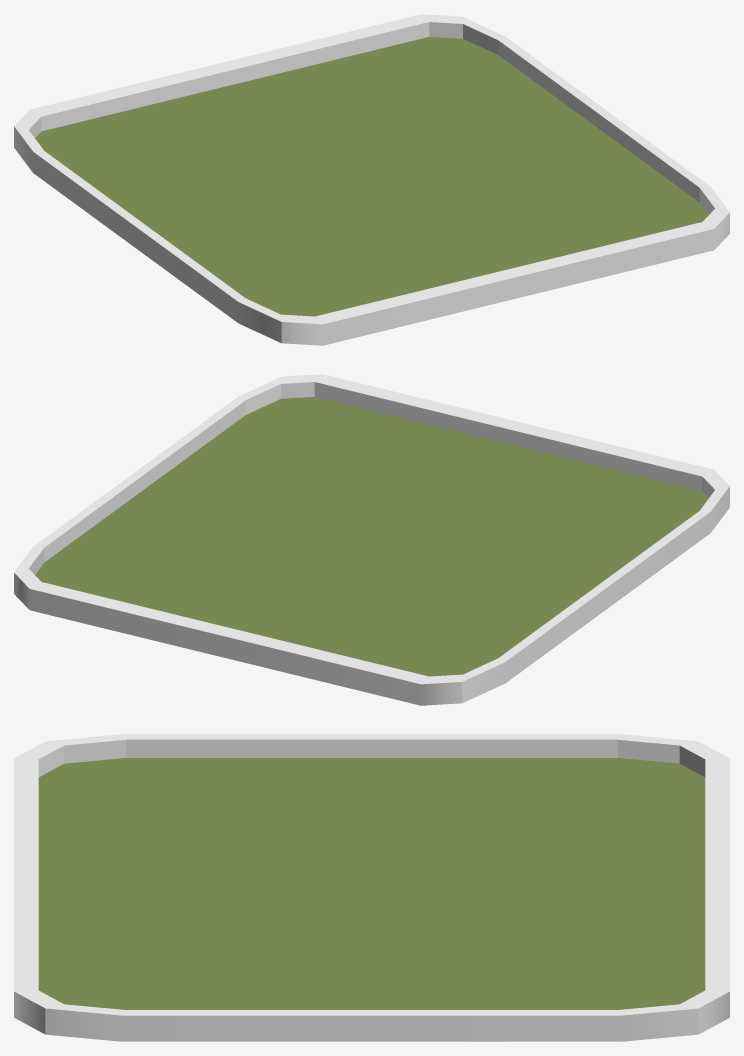
File: square block.fbx
The picture shows the model from 3 angles, top to bottom: view 1: azimuth 30°, elevation 25°; view 2: azimuth 150°, elevation 25°; view 3: azimuth 270°, elevation 25°; orthographic projection. The views are drawn at different scales.
Visible parts, largest first — view 1: patter_de_maison_de_base2; view 2: patter_de_maison_de_base2; view 3: patter_de_maison_de_base2.
Boxes of the visible parts, box(x1,y1,x2,y2) form: patter_de_maison_de_base2: box(14, 14, 729, 345); patter_de_maison_de_base2: box(14, 374, 729, 705); patter_de_maison_de_base2: box(14, 734, 729, 1041).
Size of the model in its own units: 15799 by 686 by 16996.
